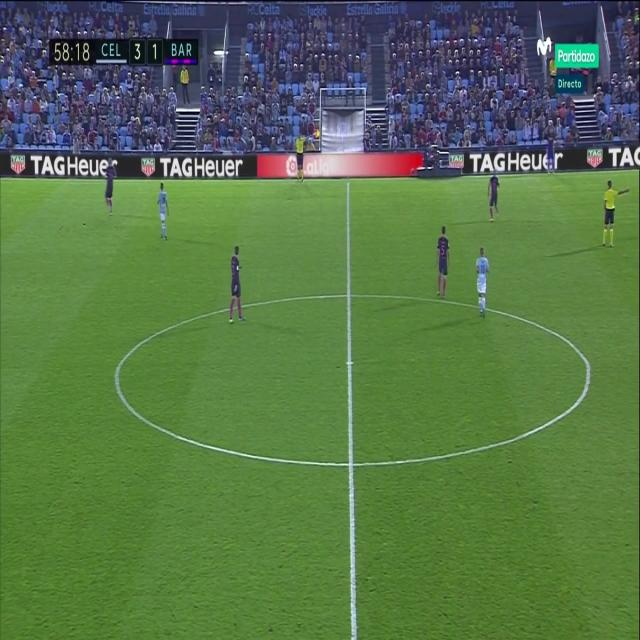Player: (225, 244, 245, 327), (473, 244, 492, 316), (436, 225, 452, 301), (102, 154, 118, 225), (155, 180, 171, 246), (484, 167, 502, 221), (545, 126, 559, 178)
Referee: (600, 180, 633, 250), (294, 137, 307, 188)
